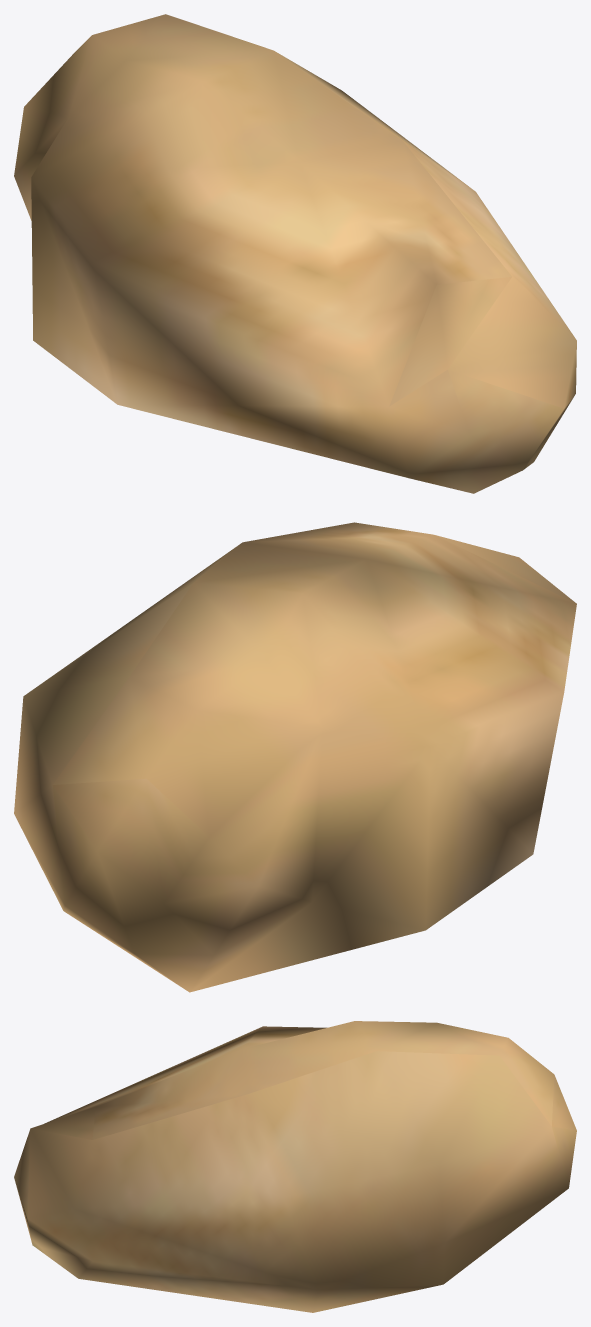
Rendered from Robot01.RightForeArm1.fbx.
The picture shows the model from 3 angles, top to bottom: view 1: azimuth 30°, elevation 25°; view 2: azimuth 150°, elevation 25°; view 3: azimuth 270°, elevation 25°; orthographic projection. The views are drawn at different scales.
Parts seen in each view (by area): view 1: mesh_1114.002; view 2: mesh_1114.002; view 3: mesh_1114.002.
Part boxes in pixels (x1=…): mesh_1114.002: x1=14, y1=14, x2=576, y2=493; mesh_1114.002: x1=14, y1=522, x2=576, y2=992; mesh_1114.002: x1=14, y1=1021, x2=576, y2=1312.
Bounding box in the file's own units: 24.97 × 19.06 × 39.47.
